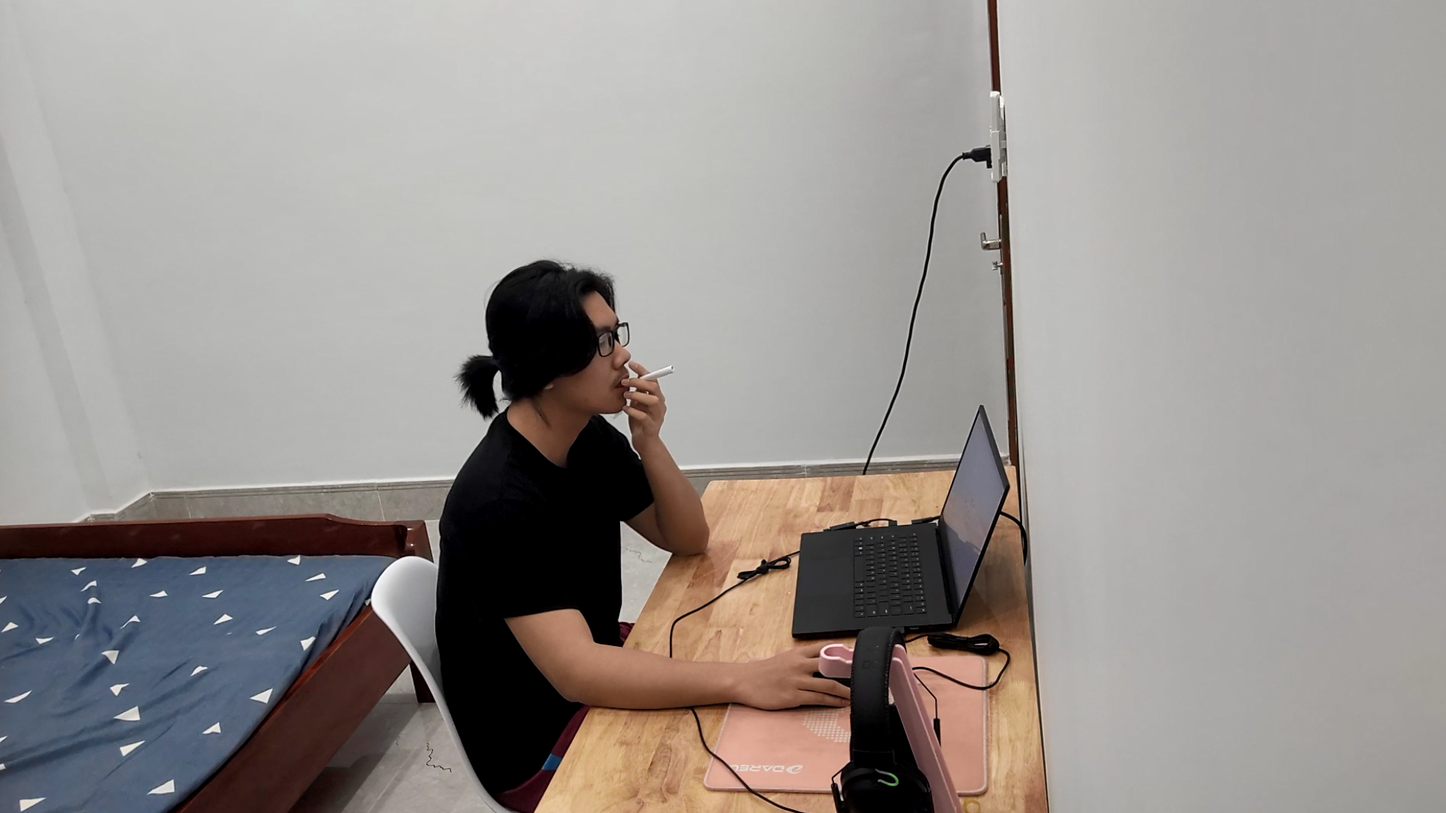cigarette: (626, 358, 677, 388)
person: (419, 248, 711, 791)
